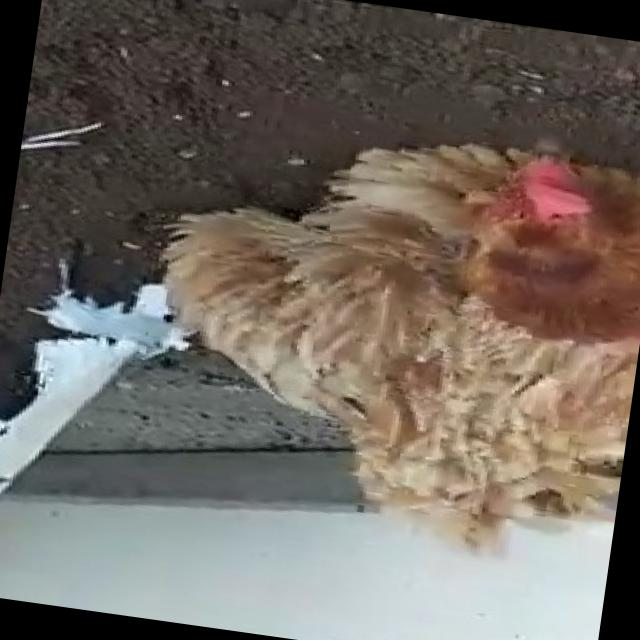stand bath: (76, 85, 640, 535)
